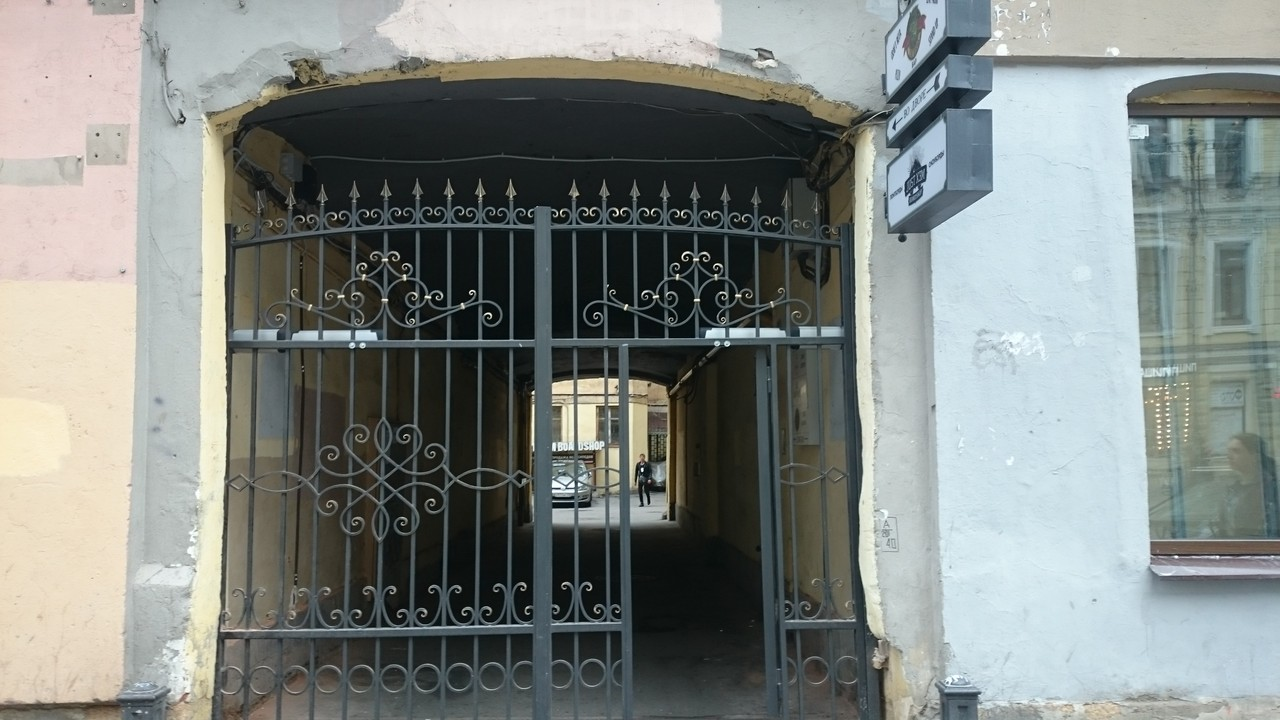arch: (200, 60, 874, 720)
cantilever: (878, 1, 998, 247)
window: (1130, 72, 1280, 554)
